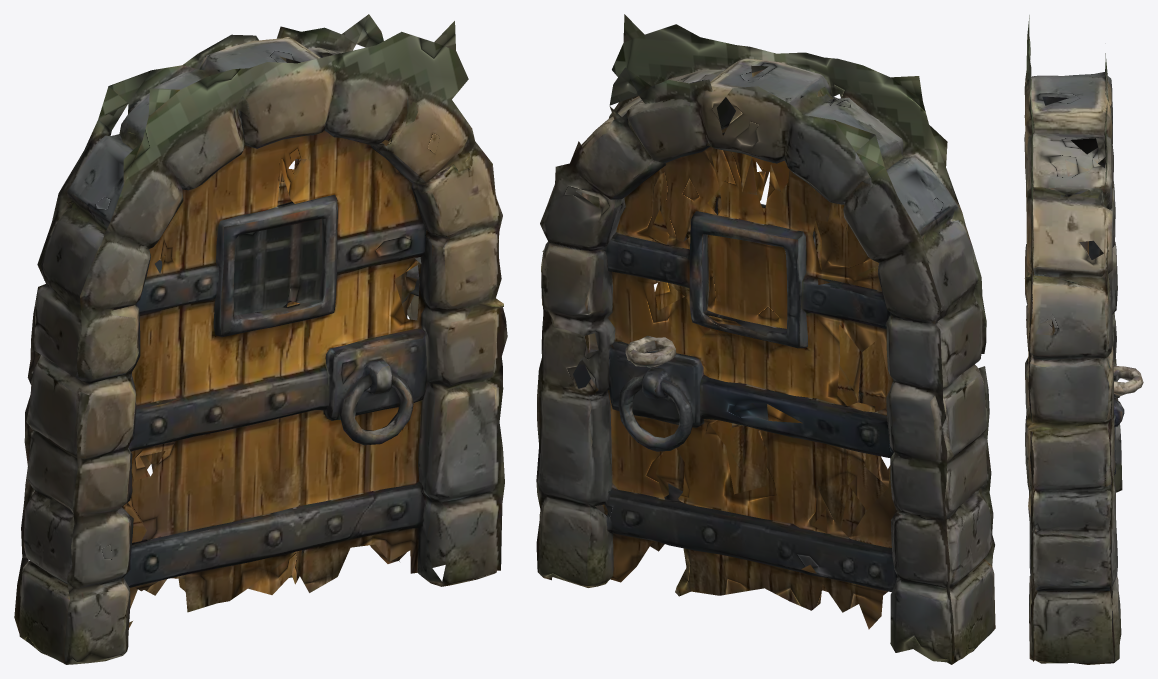
Rendered from door.glb.
The picture shows the model from 3 angles, left to right: view 1: azimuth 30°, elevation 25°; view 2: azimuth 150°, elevation 25°; view 3: azimuth 270°, elevation 25°; orthographic projection. The views are drawn at different scales.
Visible parts, largest first — view 1: geometry_0; view 2: geometry_0; view 3: geometry_0.
Boxes of the visible parts, bbox=[...] form: geometry_0: bbox=[14, 14, 507, 664]; geometry_0: bbox=[536, 14, 995, 664]; geometry_0: bbox=[1024, 15, 1143, 664].
Bounding box in the file's own units: 0.6957 × 0.8581 × 0.1845.
Materials: 1 (1 with a texture image).
